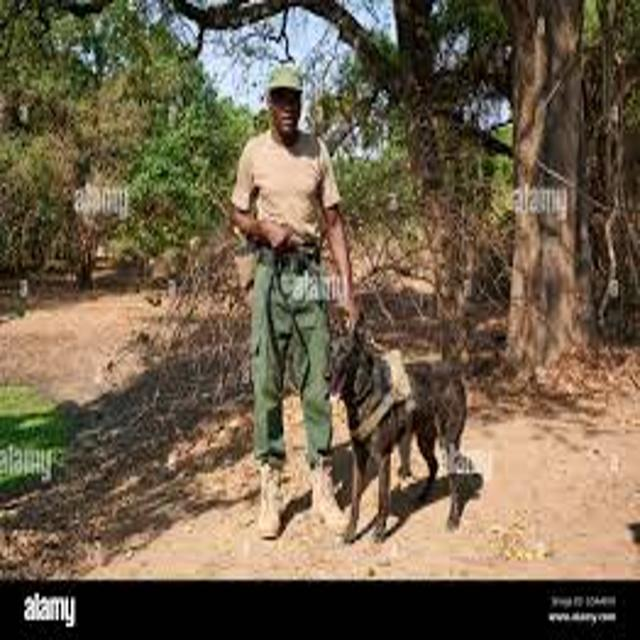dog: (282, 285, 517, 560)
poacher: (180, 50, 411, 569)
